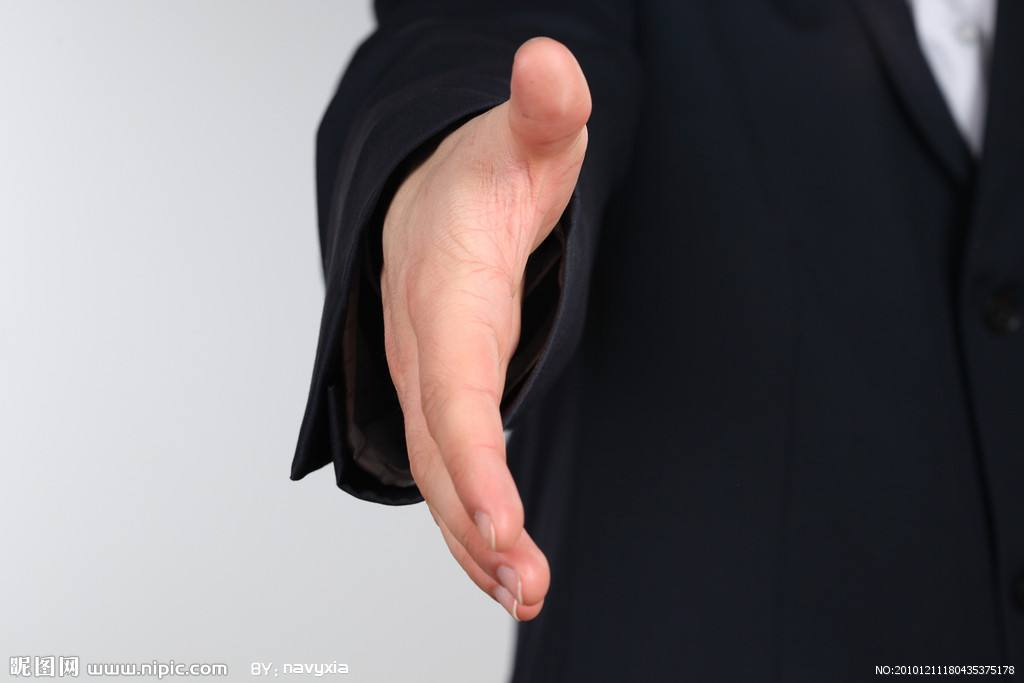no-phone: (369, 32, 595, 623)
